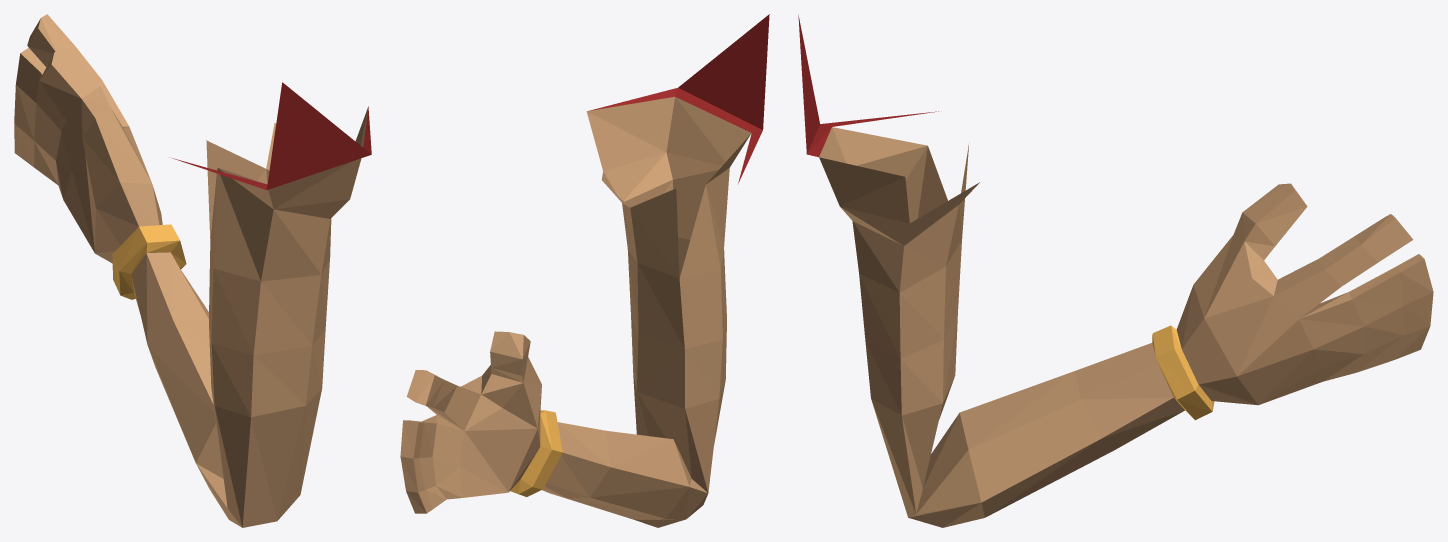
File: Mother_02_ArmR_118_04_B.obj
3 renders of one model, left to right at view 1: azimuth 30°, elevation 25°; view 2: azimuth 150°, elevation 25°; view 3: azimuth 270°, elevation 25°, orthographic. The views are drawn at different scales.
Parts seen in each view (by area): view 1: Mother_02_ArmR_118_04_B; view 2: Mother_02_ArmR_118_04_B; view 3: Mother_02_ArmR_118_04_B.
Boxes of the visible parts, x1,y1,x2,y2 form: Mother_02_ArmR_118_04_B: (14, 14, 371, 527); Mother_02_ArmR_118_04_B: (400, 14, 769, 527); Mother_02_ArmR_118_04_B: (798, 14, 1433, 527).
Size of the model in its own units: 0.1784 by 0.4725 by 0.5564.
1 material, 1 textured.
